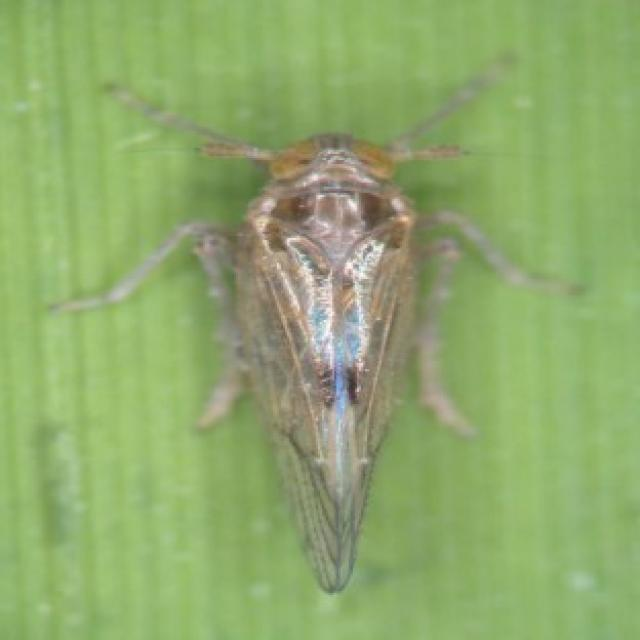brown plant hopper: (51, 53, 583, 591)
